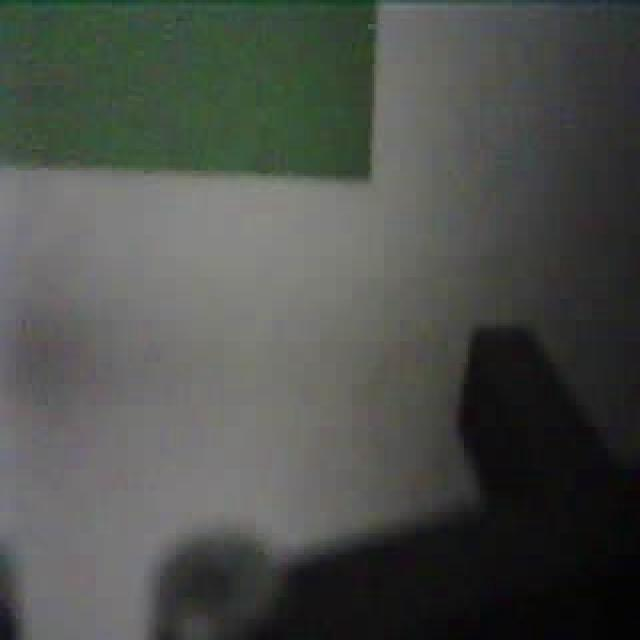green_box: (2, 0, 380, 184)
